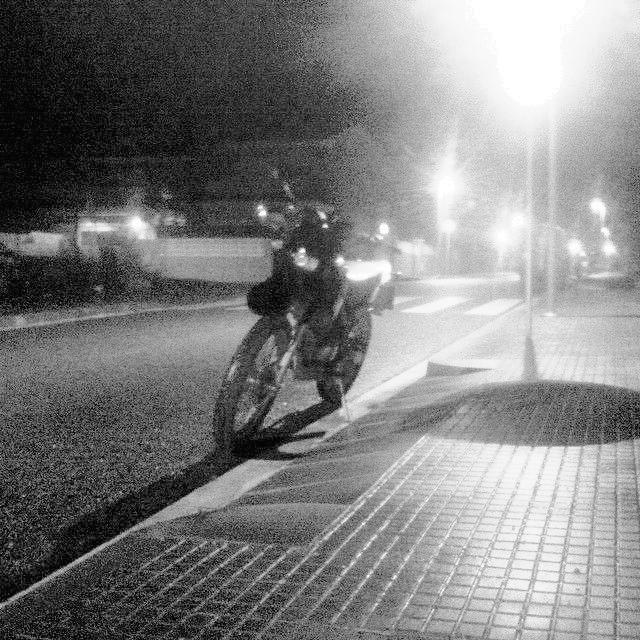Motorcycle: (220, 182, 410, 472)
